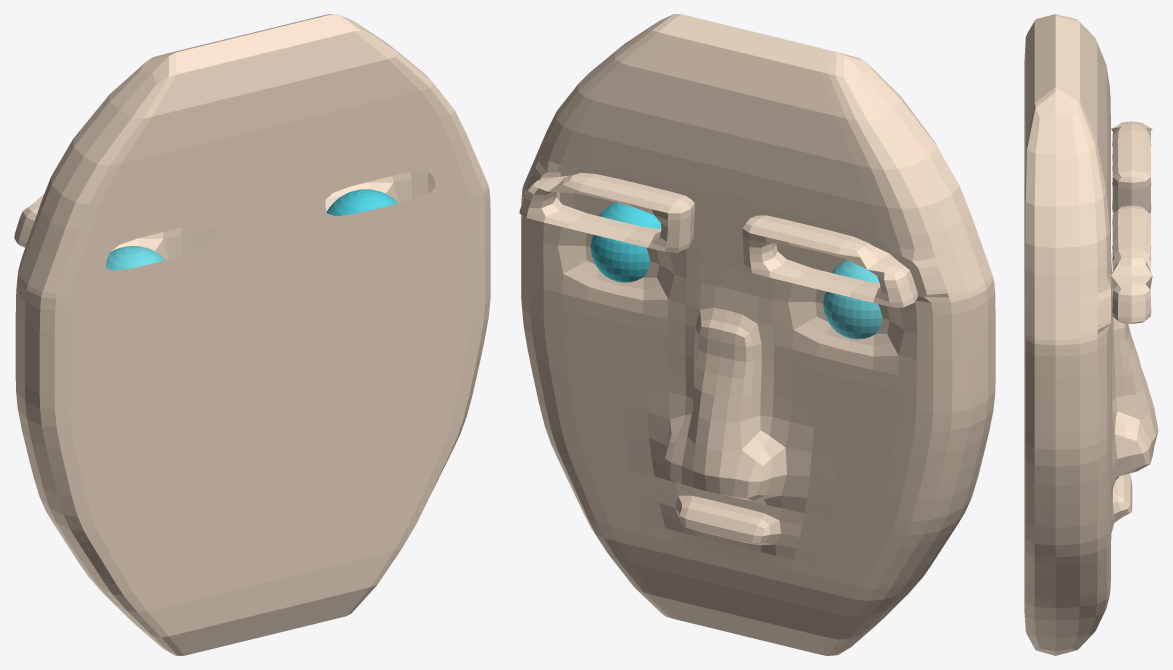
File: mascara.glb
3 views of the same model, side by side, from view 1: azimuth 30°, elevation 25°; view 2: azimuth 150°, elevation 25°; view 3: azimuth 270°, elevation 25° (orthographic). The views are drawn at different scales.
Visible parts, largest first — view 1: Cube, Sphere.001, Sphere; view 2: Cube, Sphere.001, Sphere; view 3: Cube.
Boxes of the visible parts, x1=… form: Cube: x1=14, y1=14, x2=490, y2=655; Sphere.001: x1=327, y1=189, x2=398, y2=216; Sphere: x1=106, y1=246, x2=165, y2=270; Cube: x1=519, y1=14, x2=995, y2=655; Sphere.001: x1=590, y1=202, x2=661, y2=282; Sphere: x1=823, y1=260, x2=882, y2=339; Cube: x1=1024, y1=14, x2=1158, y2=655.
Bounding box in the file's own units: 2.44 × 3.08 × 0.6561.
